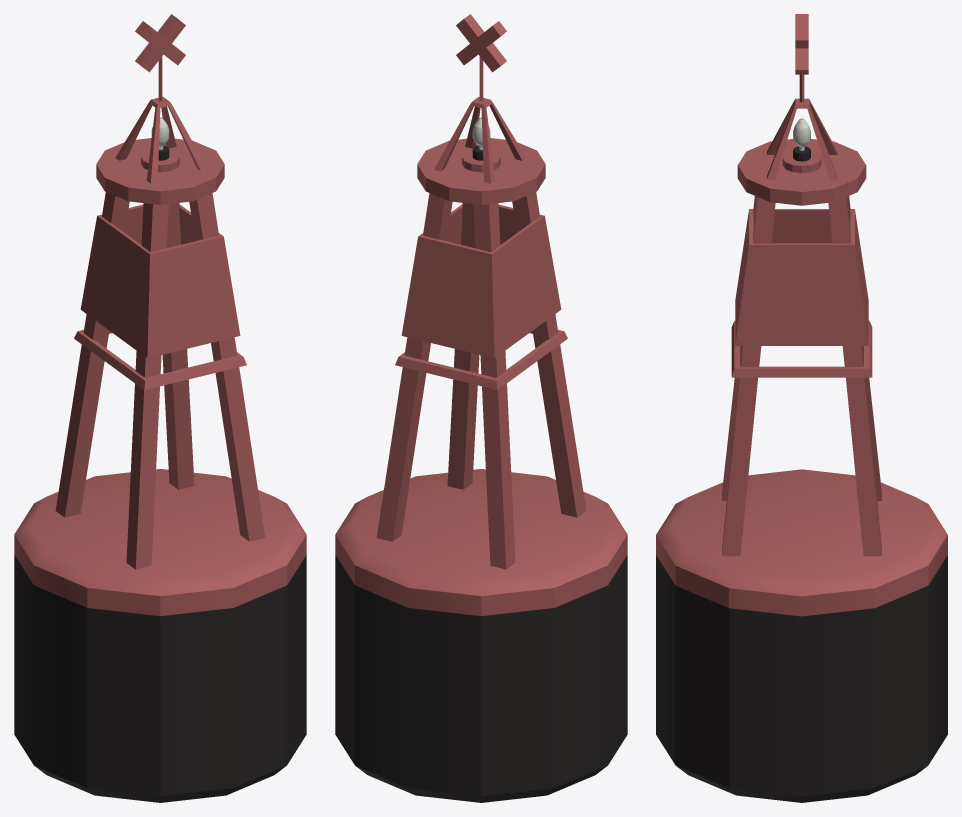
Rendered from Buoys_Xis.fbx.
The picture shows the model from 3 angles, left to right: view 1: azimuth 30°, elevation 25°; view 2: azimuth 150°, elevation 25°; view 3: azimuth 270°, elevation 25°; orthographic projection.
Parts seen in each view (by area): view 1: BuoyPe, BuoyApoio2, BuoyApoio, pCube32, pCube33; view 2: BuoyPe, BuoyApoio2, BuoyApoio, pCube32, pCube33; view 3: BuoyPe, BuoyApoio2, BuoyApoio, pCube33.
Boxes of the visible parts, left/top/right/bottom form: BuoyPe: left=14, top=469, right=306, bottom=802; BuoyApoio2: left=74, top=138, right=246, bottom=390; BuoyApoio: left=55, top=96, right=265, bottom=569; pCube32: left=135, top=14, right=185, bottom=72; pCube33: left=135, top=21, right=185, bottom=65; BuoyPe: left=335, top=469, right=627, bottom=802; BuoyApoio2: left=395, top=138, right=567, bottom=390; BuoyApoio: left=376, top=97, right=586, bottom=569; pCube32: left=456, top=14, right=506, bottom=72; pCube33: left=456, top=21, right=506, bottom=65; BuoyPe: left=656, top=469, right=947, bottom=802; BuoyApoio2: left=731, top=139, right=872, bottom=377; BuoyApoio: left=722, top=98, right=881, bottom=556; pCube33: left=795, top=14, right=808, bottom=74.
Size of the model in its own units: 1.59 by 4.37 by 1.59.
